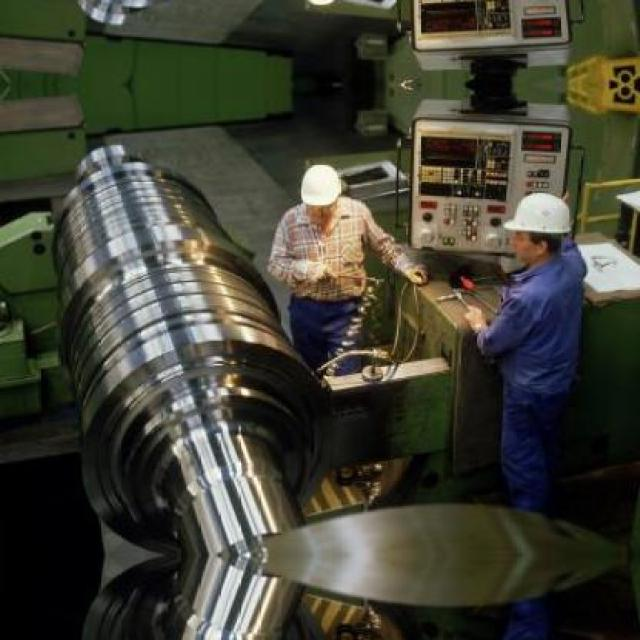helmet: (500, 184, 574, 264), (294, 160, 346, 221)
